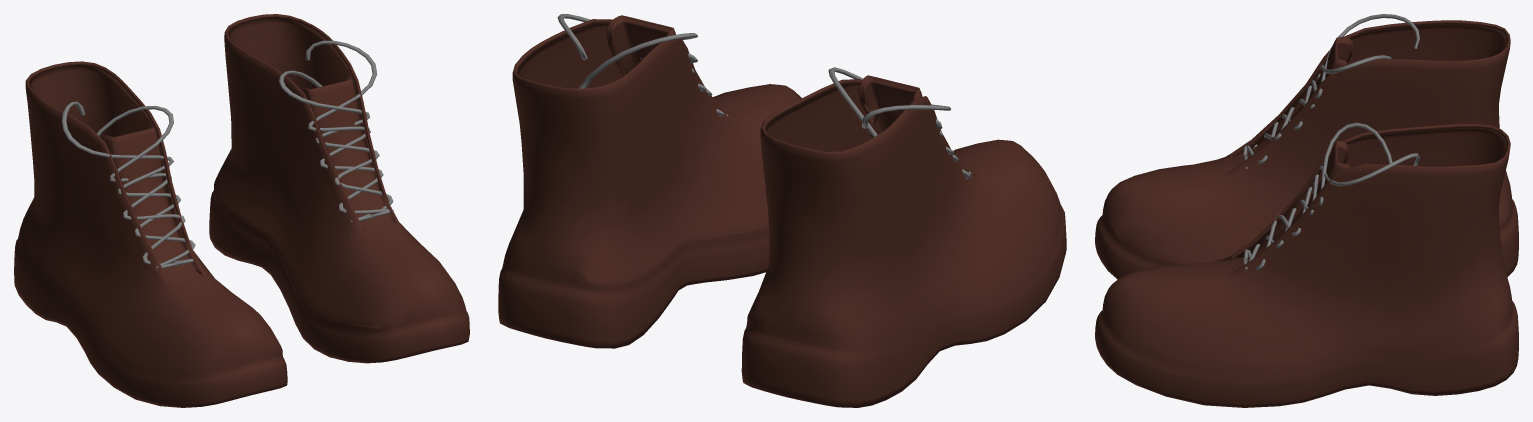
The model's file is Boots.fbx.
3 renders of one model, left to right at view 1: azimuth 30°, elevation 25°; view 2: azimuth 150°, elevation 25°; view 3: azimuth 270°, elevation 25°, orthographic. The views are drawn at different scales.
Visible parts, largest first — view 1: Plane.001; view 2: Plane.001; view 3: Plane.001.
Part boxes in pixels (x1,y1,x2,y2): Plane.001: (14,14,469,407); Plane.001: (498,14,1066,407); Plane.001: (1095,14,1518,407).
Bounding box in the file's own units: 75.02 × 49.08 × 79.06.
